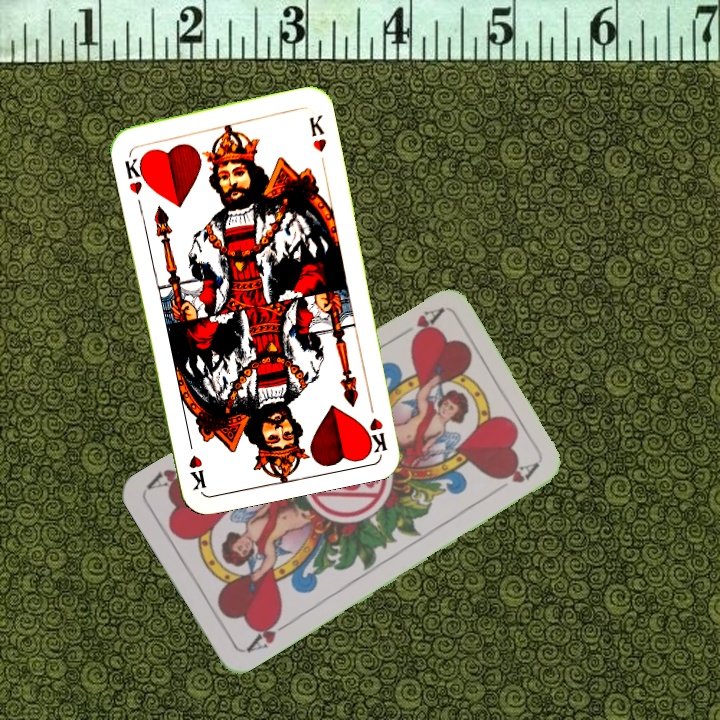HA: (242, 610, 294, 655), (391, 304, 445, 346)
HK: (120, 147, 152, 197), (364, 394, 390, 454)
